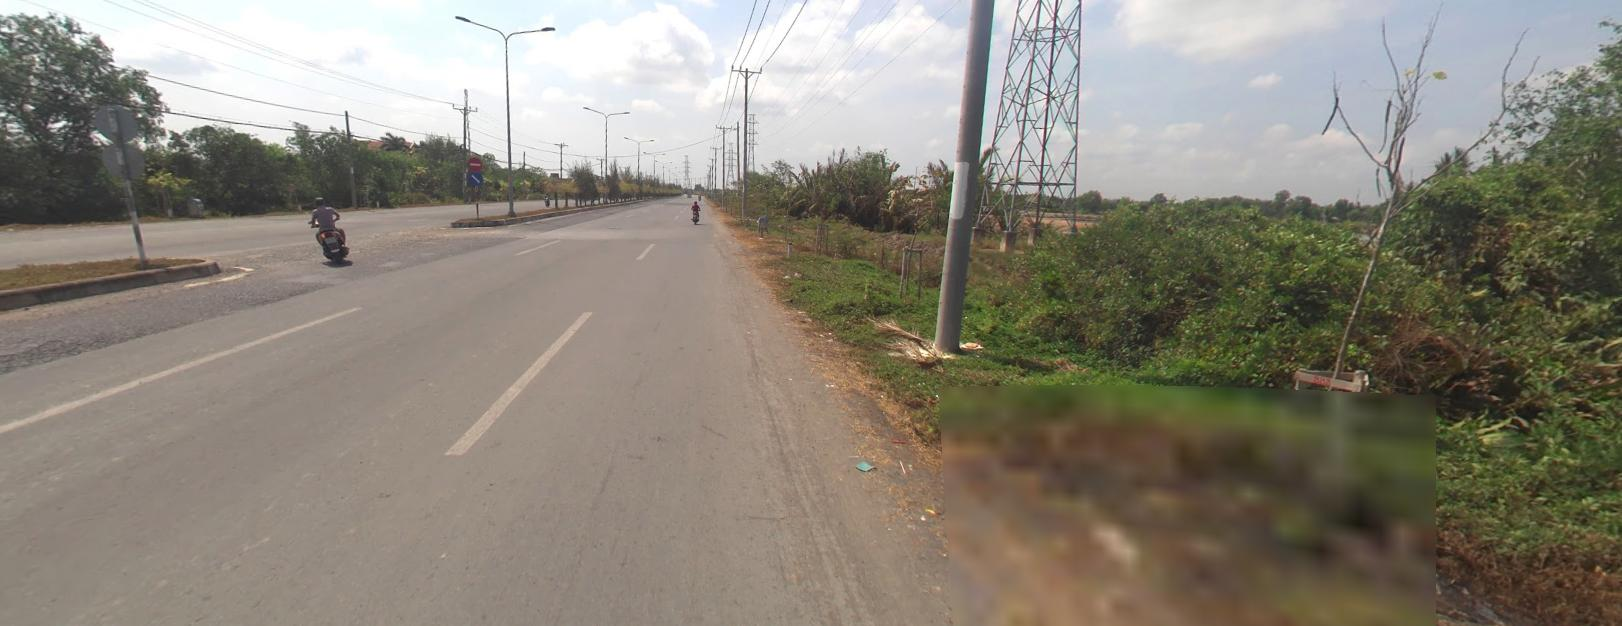Cam nguoc chieu: (467, 156, 481, 170)
Hieu lenh: (467, 170, 482, 184)
